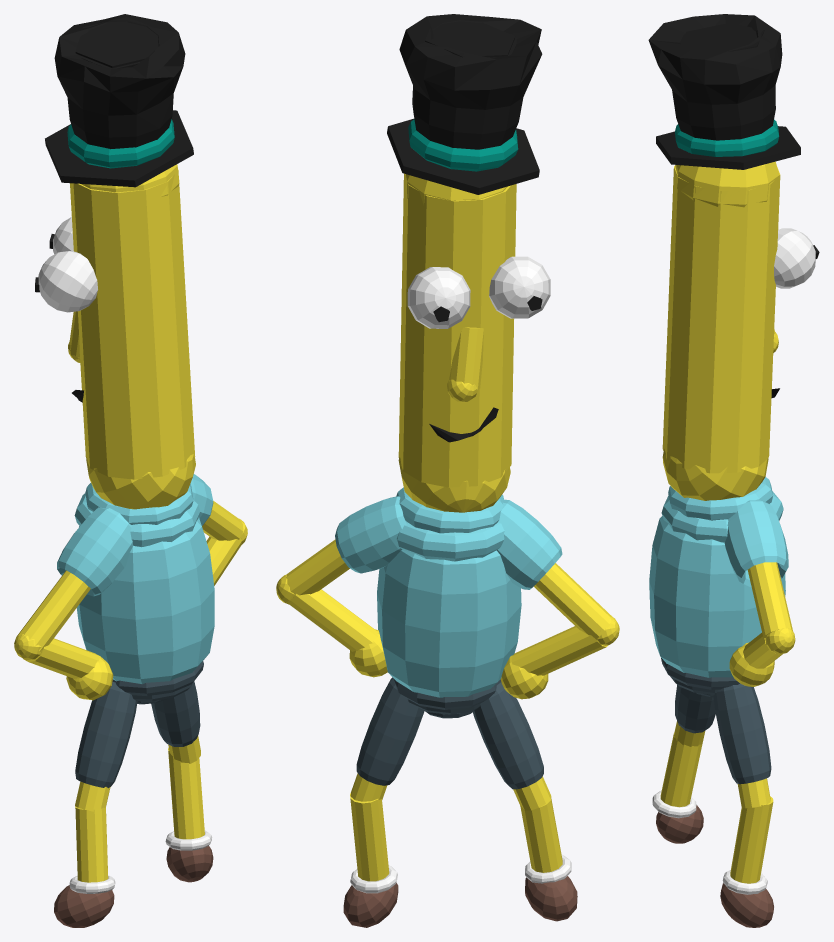
Rendered from poop.obj.
3 renders of one model, left to right at view 1: azimuth 30°, elevation 25°; view 2: azimuth 150°, elevation 25°; view 3: azimuth 270°, elevation 25°, orthographic. The views are drawn at different scales.
Parts seen in each view (by area): view 1: group1608770708, group816207539, group1288103892, group1973763530, group1218168578, group1322114860, group1942139557, group914447578, group1158102954, group263928393, group247154379, group1986848065 (+19 smaller); view 2: group1608770708, group816207539, group1288103892, group1973763530, group1322114860, group875598661, group450078619, group1218168578, group103741404, group1158102954, group1412155647, group1942139557 (+18 smaller); view 3: group1608770708, group816207539, group1288103892, group875598661, group450078619, group1011500733, group1942139557, group1322114860, group263928393, group288454485, group103741404, group1986848065 (+15 smaller).
Part boxes in pixels (<box>): group1608770708: <box>70,169,195,479</box>; group816207539: <box>76,517,214,683</box>; group1288103892: <box>54,14,185,149</box>; group1973763530: <box>75,681,137,788</box>; group1218168578: <box>57,507,132,596</box>; group1322114860: <box>45,110,193,187</box>; group1942139557: <box>86,454,195,509</box>; group914447578: <box>75,17,163,68</box>; group1158102954: <box>38,251,97,312</box>; group263928393: <box>168,748,204,839</box>; group247154379: <box>17,570,90,651</box>; group1986848065: <box>75,806,108,882</box>; group1608770708: <box>398,173,516,487</box>; group816207539: <box>377,550,521,697</box>; group1288103892: <box>399,14,542,149</box>; group1973763530: <box>473,682,543,789</box>; group1322114860: <box>387,118,539,194</box>; group875598661: <box>356,678,424,785</box>; group450078619: <box>335,496,406,573</box>; group1218168578: <box>497,499,562,589</box>; group103741404: <box>407,267,470,328</box>; group1158102954: <box>489,256,550,318</box>; group1412155647: <box>396,521,504,561</box>; group1942139557: <box>398,457,510,512</box>; group1608770708: <box>662,165,780,473</box>; group816207539: <box>649,516,785,677</box>; group1288103892: <box>648,14,782,140</box>; group875598661: <box>713,683,771,784</box>; group450078619: <box>724,500,788,587</box>; group1011500733: <box>675,161,779,207</box>; group1942139557: <box>662,449,768,500</box>; group1322114860: <box>656,126,800,169</box>; group263928393: <box>730,796,773,883</box>; group288454485: <box>747,562,792,638</box>; group103741404: <box>774,228,815,288</box>; group1986848065: <box>660,733,702,807</box>.
Size of the model in its own units: 0.205 by 0.6137 by 0.1117.
